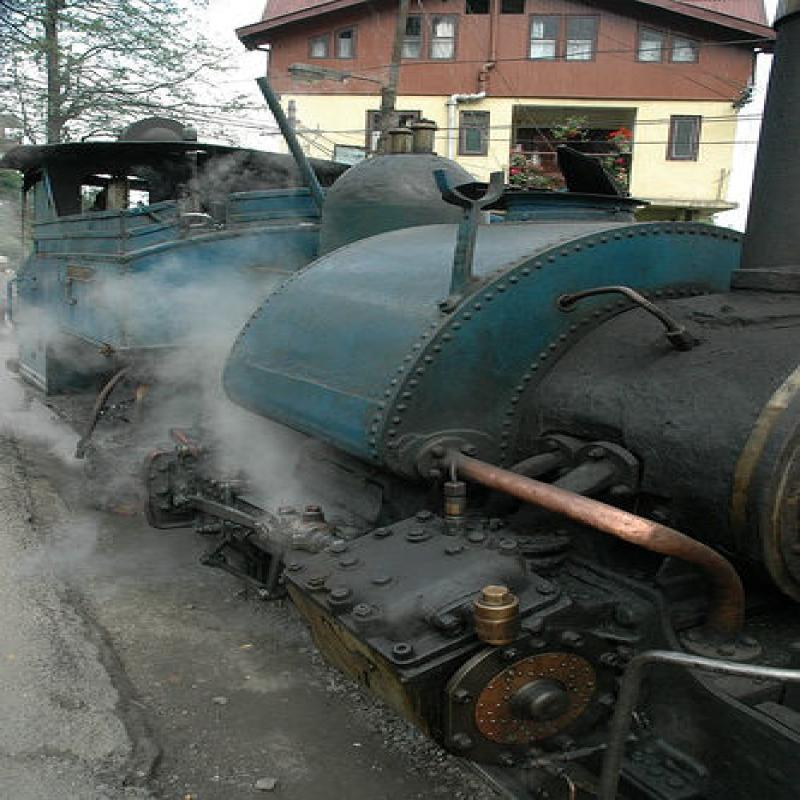train: (3, 2, 800, 800)
